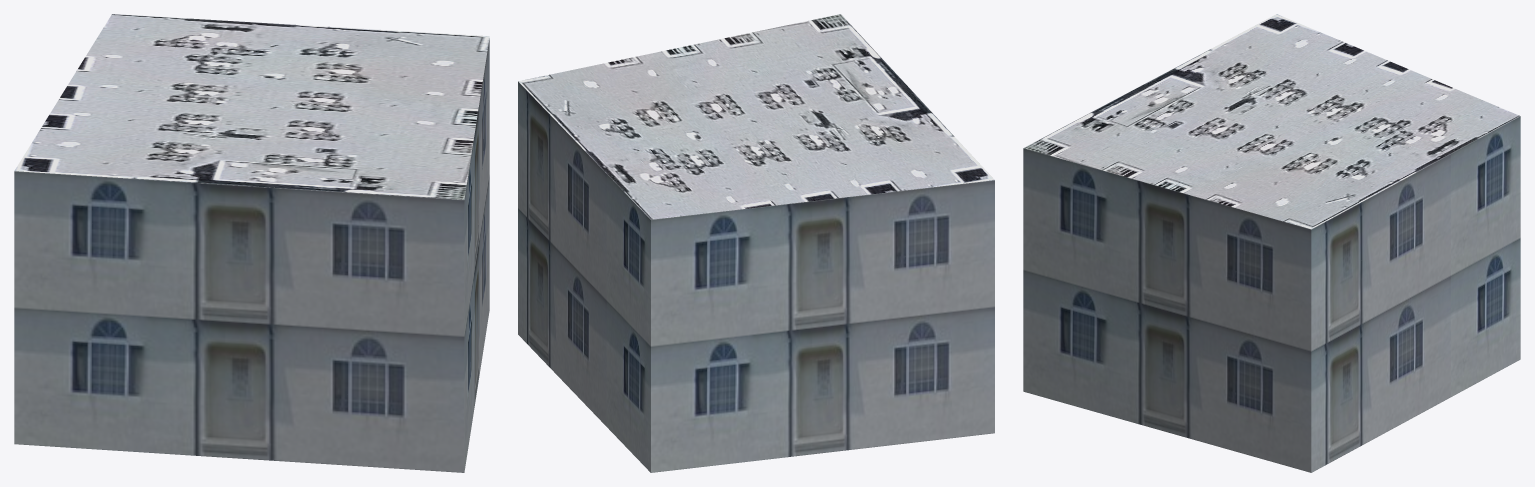
The model's file is ResTex__1086.fbx.
3 views of the same model, side by side, from view 1: azimuth 30°, elevation 25°; view 2: azimuth 150°, elevation 25°; view 3: azimuth 270°, elevation 25° (orthographic). The views are drawn at different scales.
Visible parts, largest first — view 1: CityEngineMaterial_17_m, CityEngineMaterial_8_m; view 2: CityEngineMaterial_17_m, CityEngineMaterial_8_m; view 3: CityEngineMaterial_17_m, CityEngineMaterial_8_m.
Boxes of the visible parts, x1,y1,x2,y2 form: CityEngineMaterial_17_m: [14, 38, 489, 472]; CityEngineMaterial_8_m: [14, 14, 489, 199]; CityEngineMaterial_17_m: [518, 81, 994, 472]; CityEngineMaterial_8_m: [518, 14, 994, 219]; CityEngineMaterial_17_m: [1023, 116, 1520, 472]; CityEngineMaterial_8_m: [1023, 14, 1519, 229].
Size of the model in its own units: 11.38 by 6 by 11.1.
Materials: 2 (2 with a texture image).
